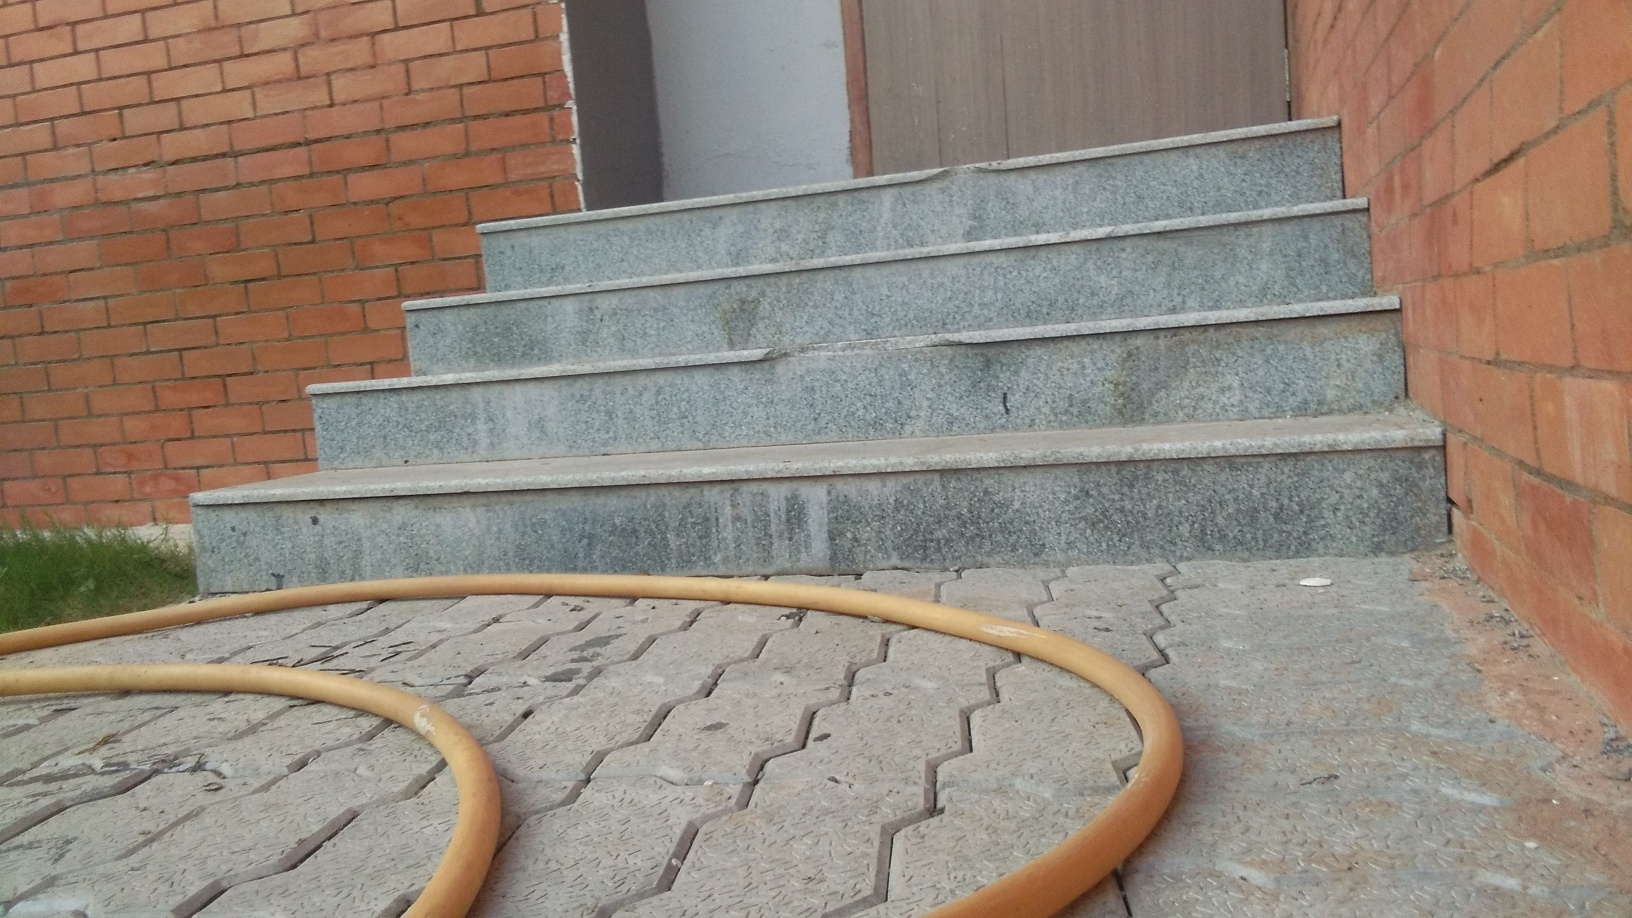stairs_up: (195, 110, 1456, 614)
